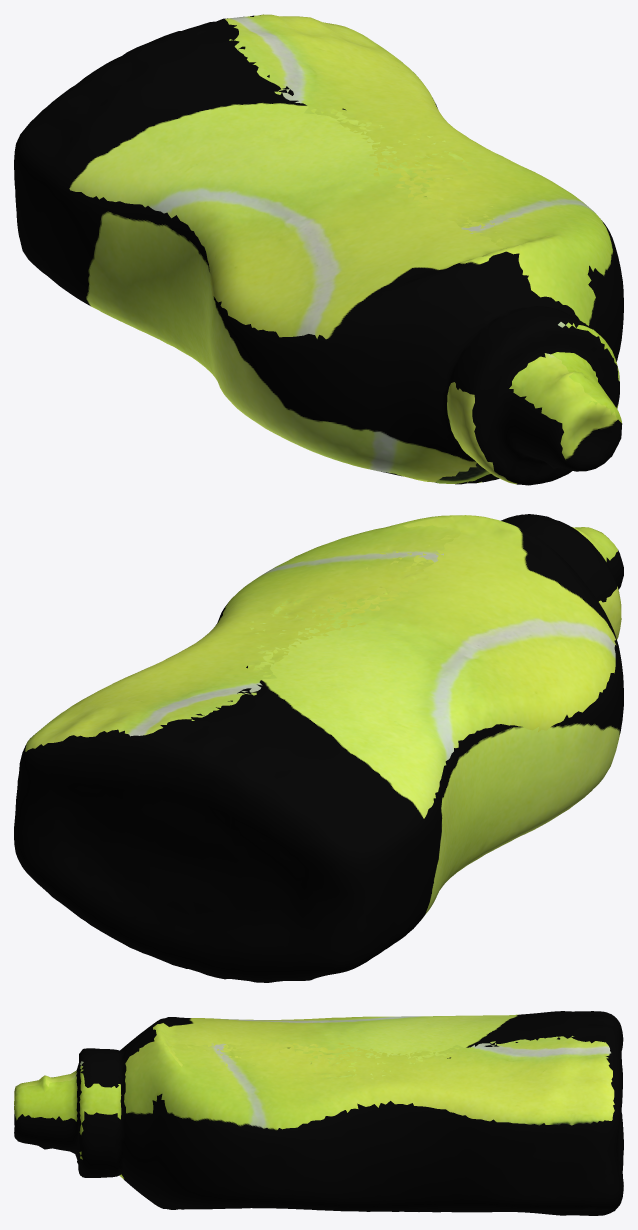
Rendered from textured_simple_reoriented.obj.
3 renders of one model, top to bottom at view 1: azimuth 30°, elevation 25°; view 2: azimuth 150°, elevation 25°; view 3: azimuth 270°, elevation 25°, orthographic. The views are drawn at different scales.
Visible parts, largest first — view 1: textured_simple_reoriented; view 2: textured_simple_reoriented; view 3: textured_simple_reoriented.
Part boxes in pixels (box(x1,y1,x2,y2)): textured_simple_reoriented: box(14, 14, 623, 485); textured_simple_reoriented: box(14, 514, 623, 982); textured_simple_reoriented: box(14, 1011, 623, 1215).
Bounding box in the file's own units: 0.0964 × 0.0581 × 0.1915.
